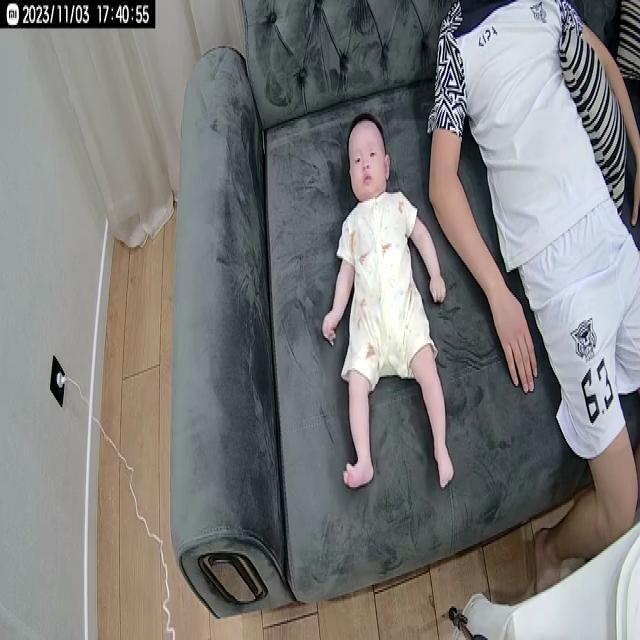baby: (322, 112, 454, 497)
